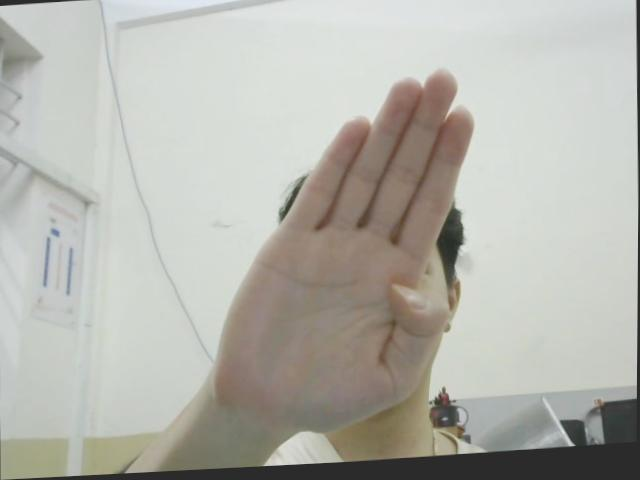B: (208, 69, 480, 440)
